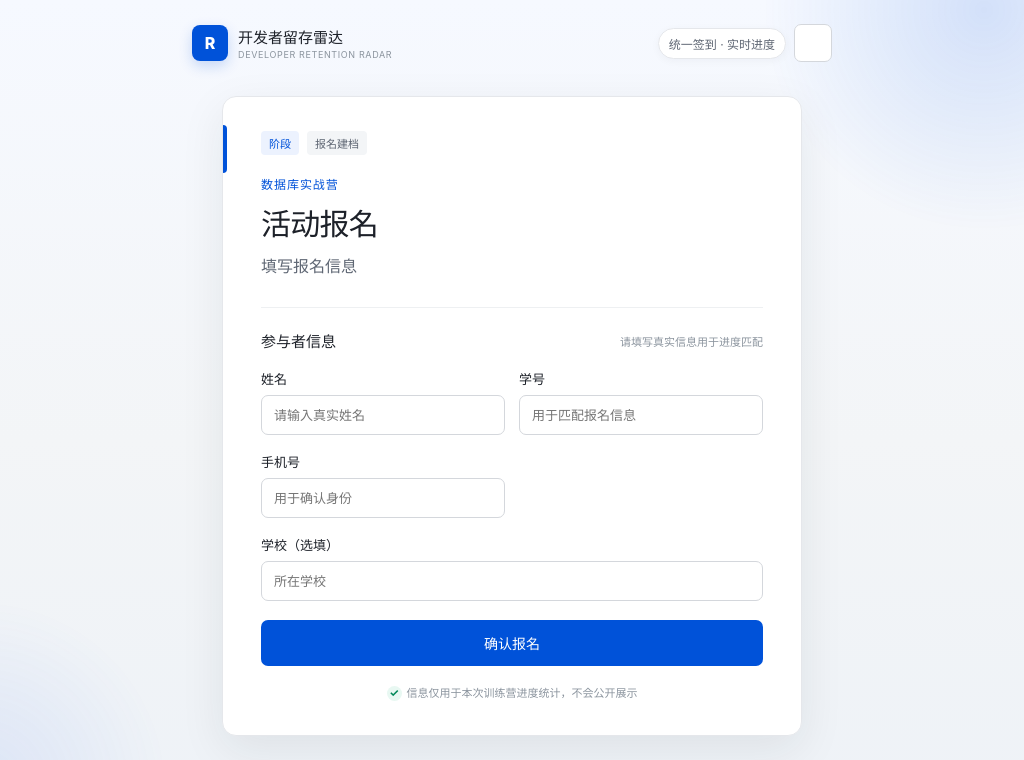
Test: participant check-in › renders stage and reports successful check-in
Expected: the heading "活动报名" is shown, [261,206,378,242]
Type "张三" into the field with placeholder "请输入真实姓名".
click(383, 415); type("张三")  # box [261,395,505,435]
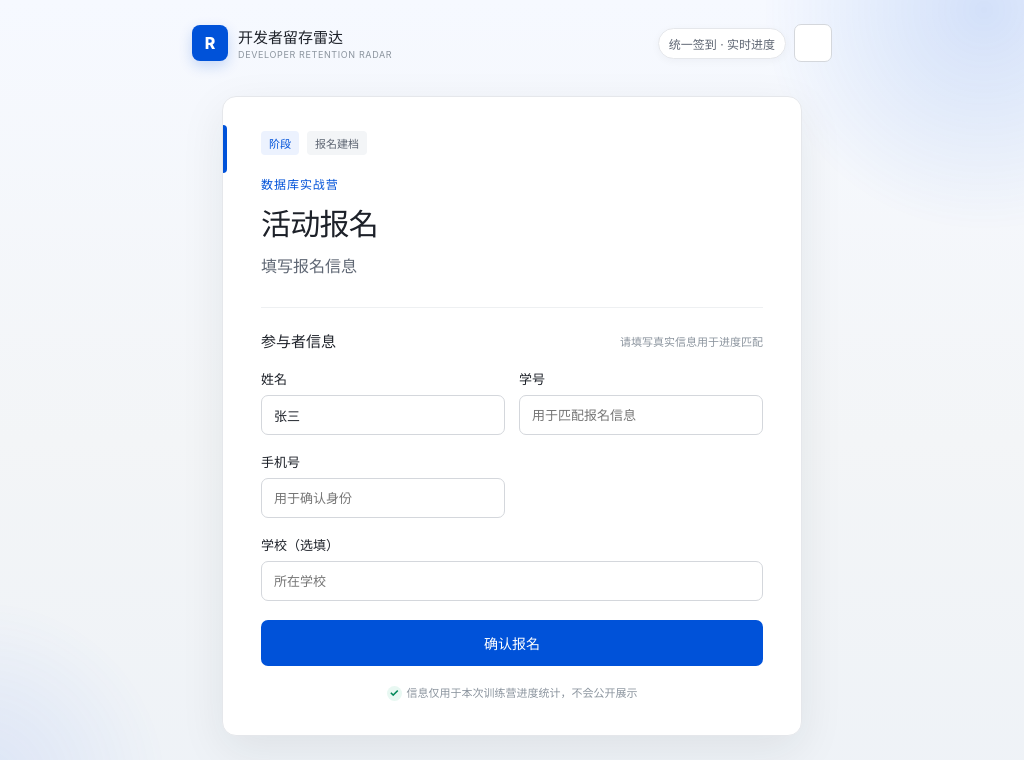
Type "2026001" into the field with placeholder "用于匹配报名信息".
click(641, 415); type("2026001")  # box [519,395,763,435]
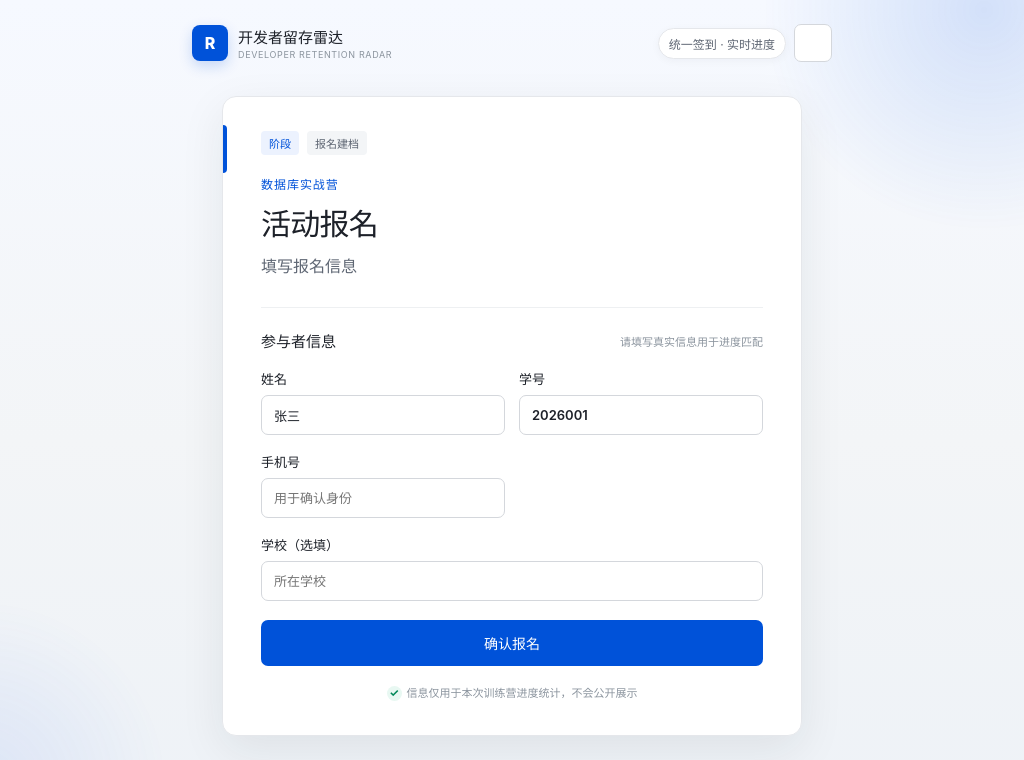
Type "13800138000" into the field with placeholder "用于确认身份".
click(383, 498); type("13800138000")  # box [261,478,505,518]
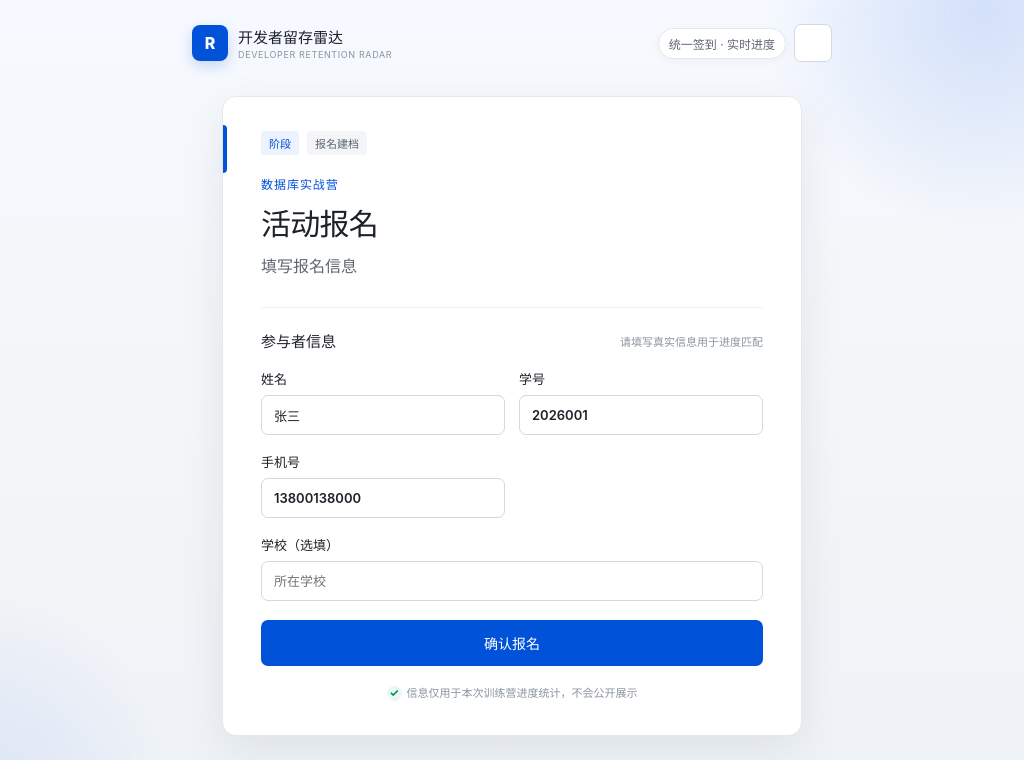
Click the button "确认报名".
click(512, 643)  # box [261,620,763,666]
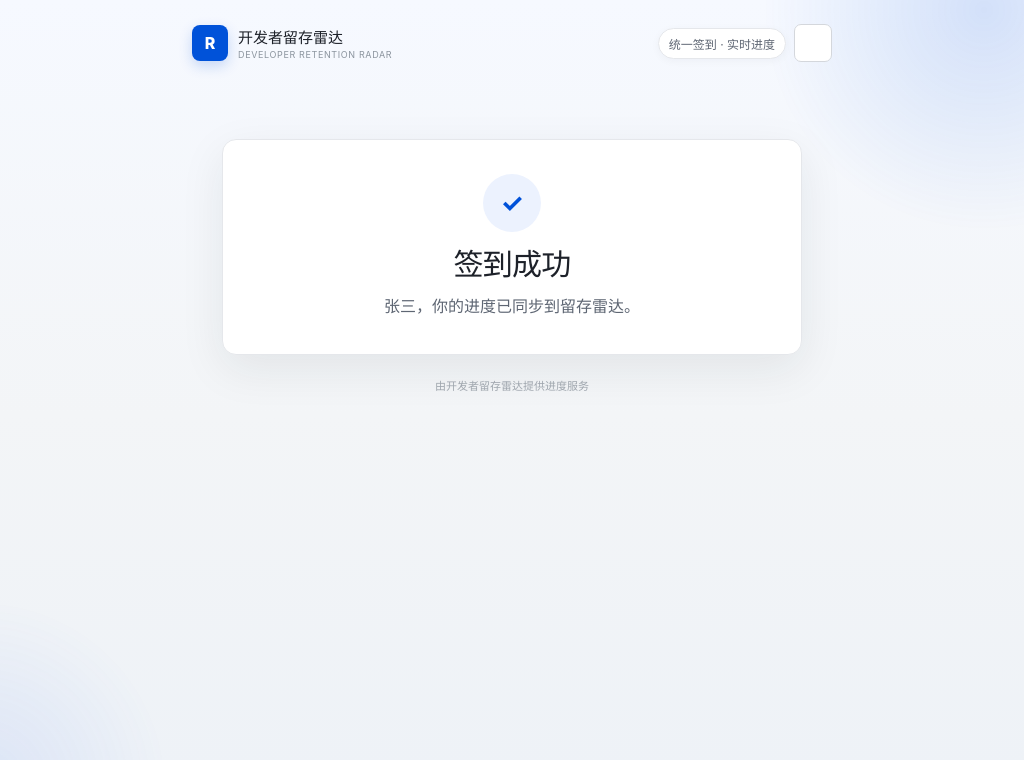
Expected: the heading "签到成功" is shown, [454,246,570,282]
